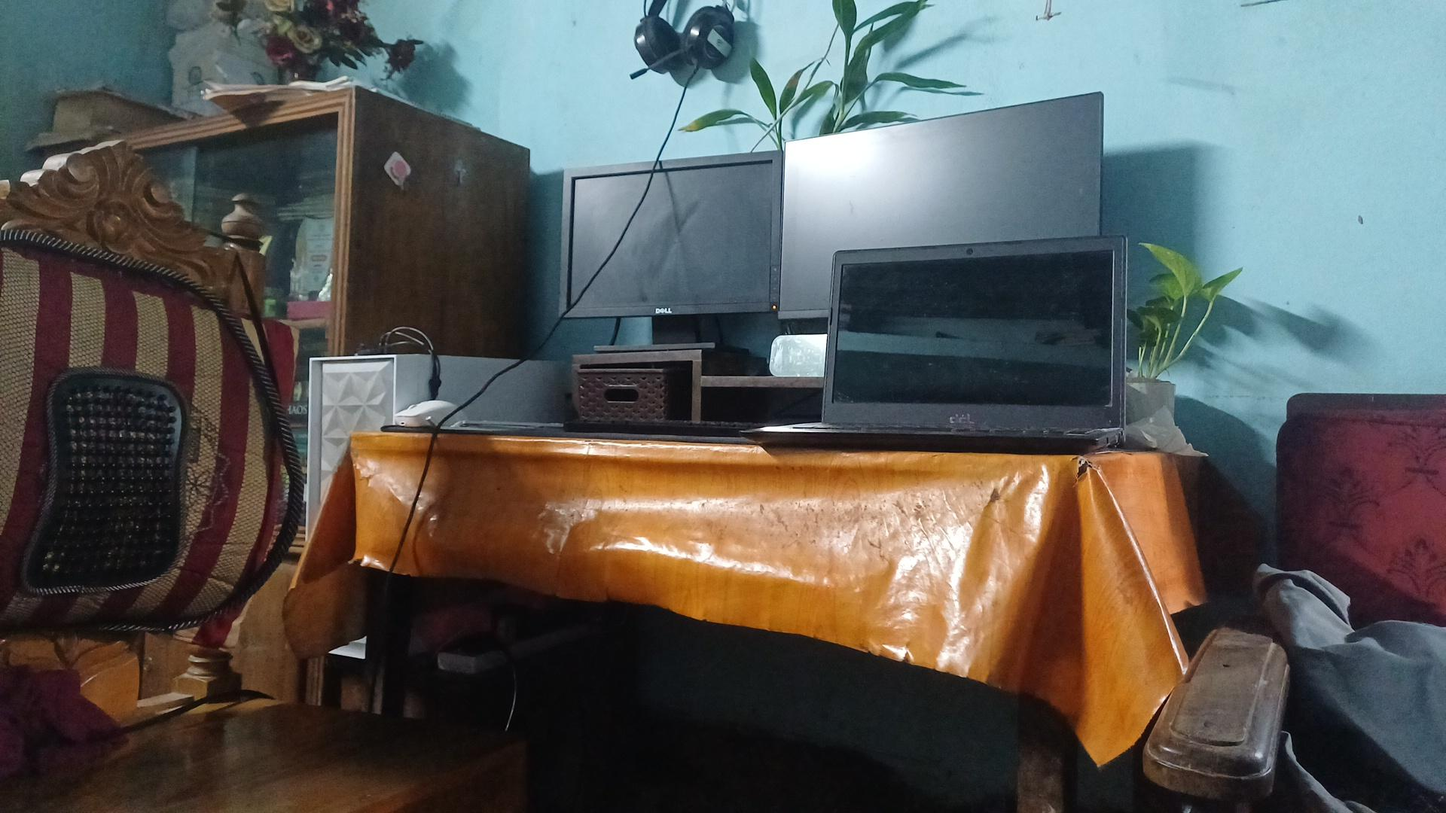Chair: (2, 144, 359, 813)
Clock: (763, 328, 862, 391)
Laptop: (809, 228, 1158, 457)
Monitor: (745, 94, 1142, 331), (542, 154, 799, 325)
Mouse: (393, 388, 496, 448)
Plant: (1100, 233, 1218, 457)
